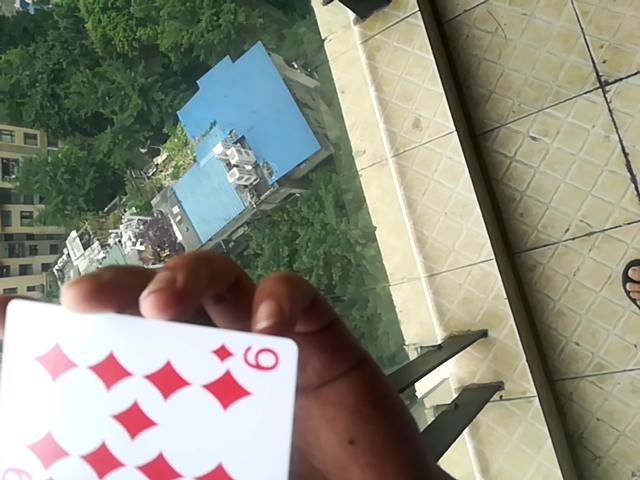fk 9: (0, 295, 306, 480)
